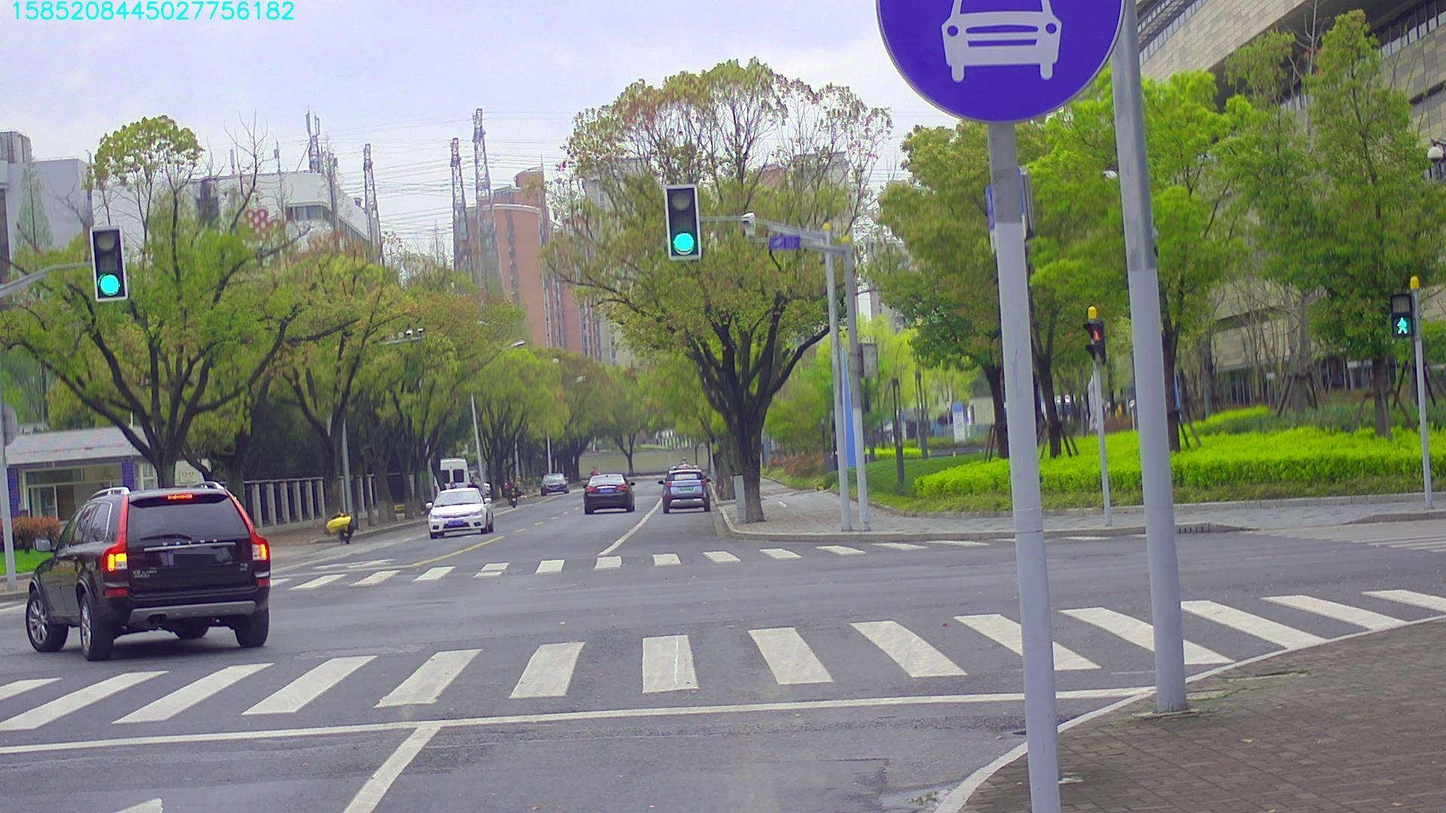green: (93, 228, 125, 298), (666, 185, 697, 257)
